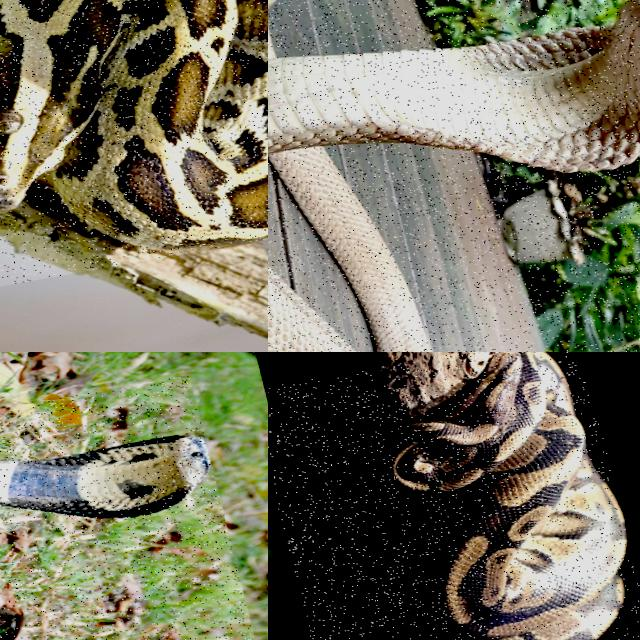Naja kaouthia: (268, 0, 639, 351), (0, 437, 206, 518)
Python bivittatus: (305, 352, 626, 639), (0, 0, 267, 249)
